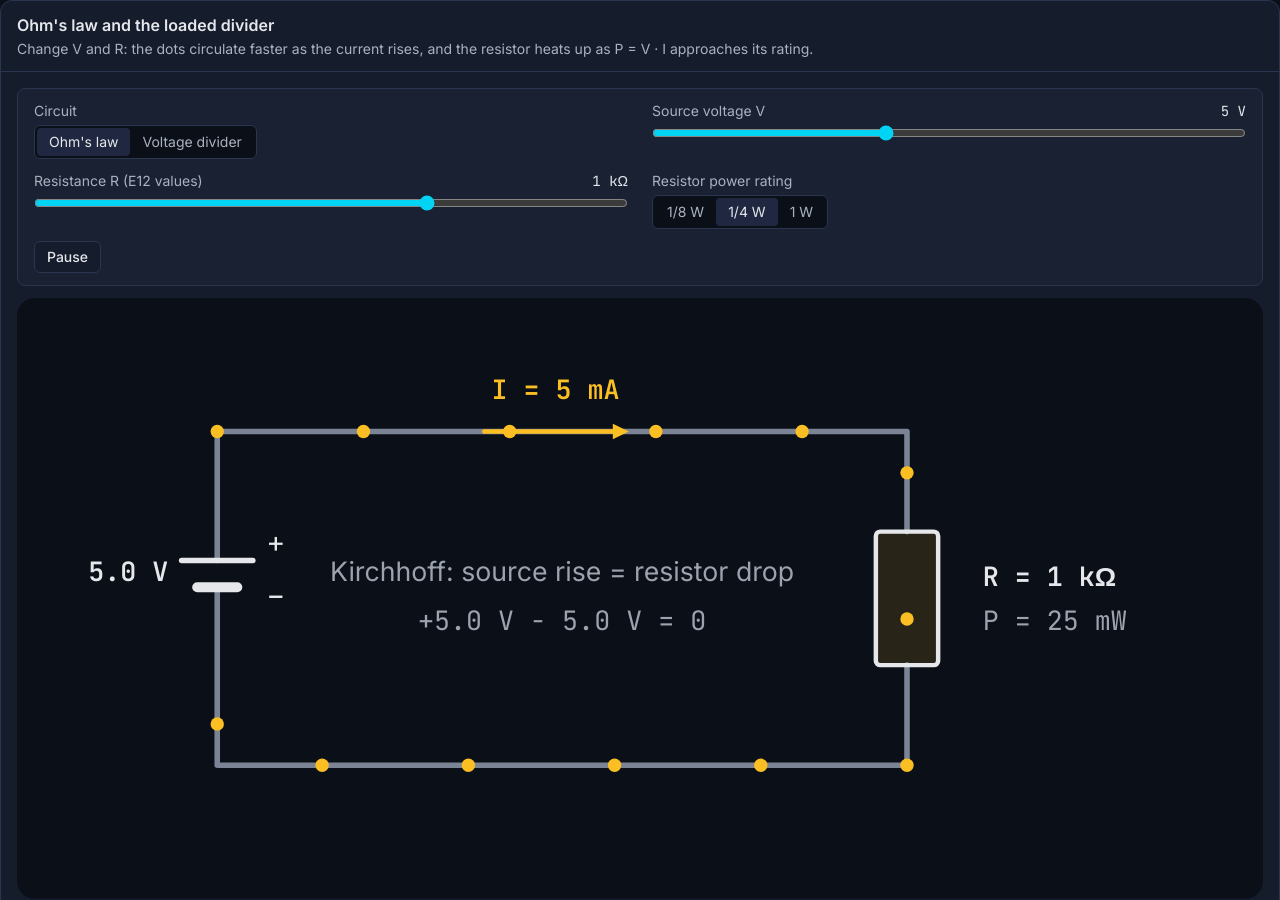
it: OhmsLawCircuit › divider mode: 27 k / 10 k on 12 V gives 3.243 V, and a 100 k load pulls it to 3.023 V
Click the radio button labelled "Voltage divider" at (192, 142), box left=130, top=128, right=254, bottom=156
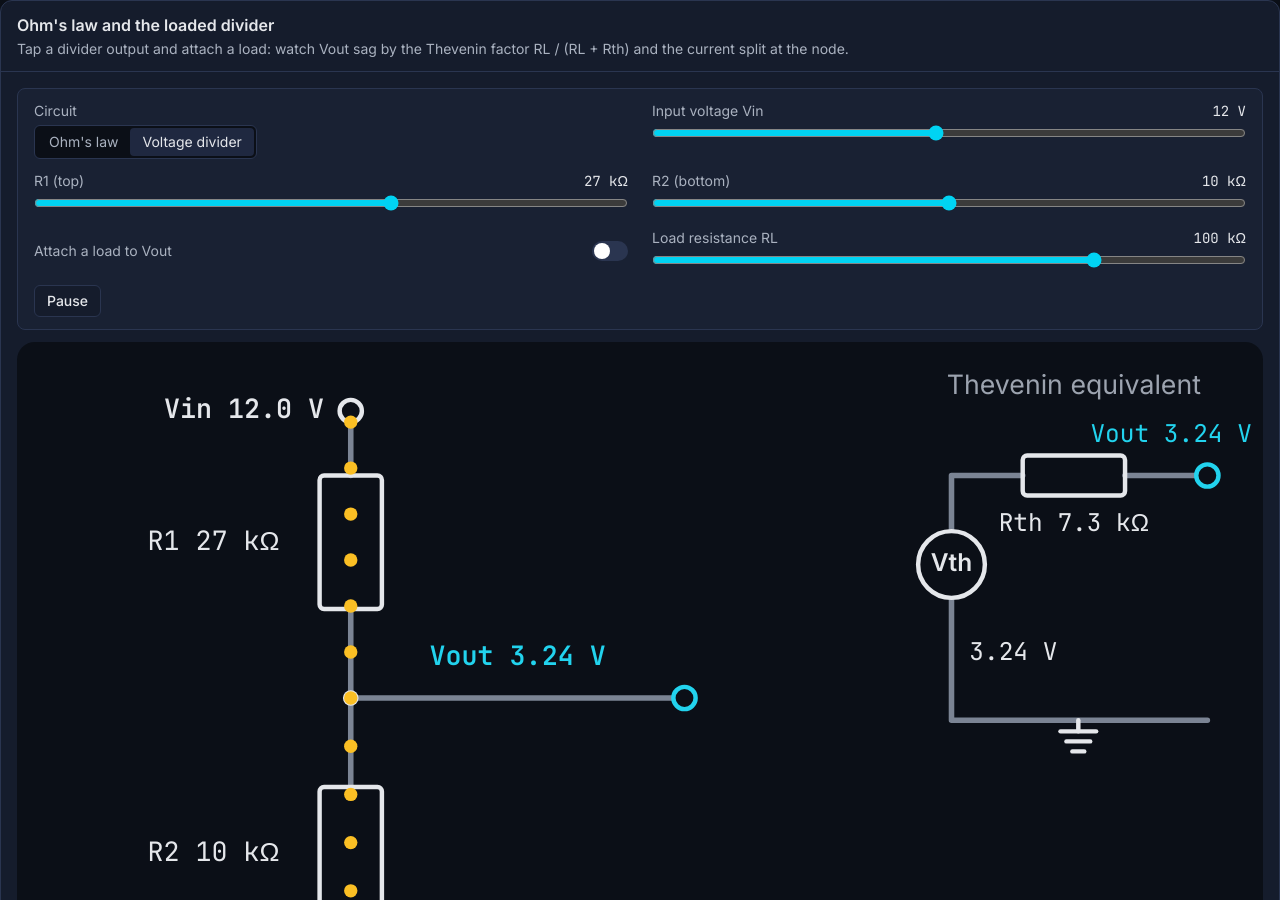
Click the switch at (103, 250), box left=34, top=228, right=628, bottom=273
(page scrolled)
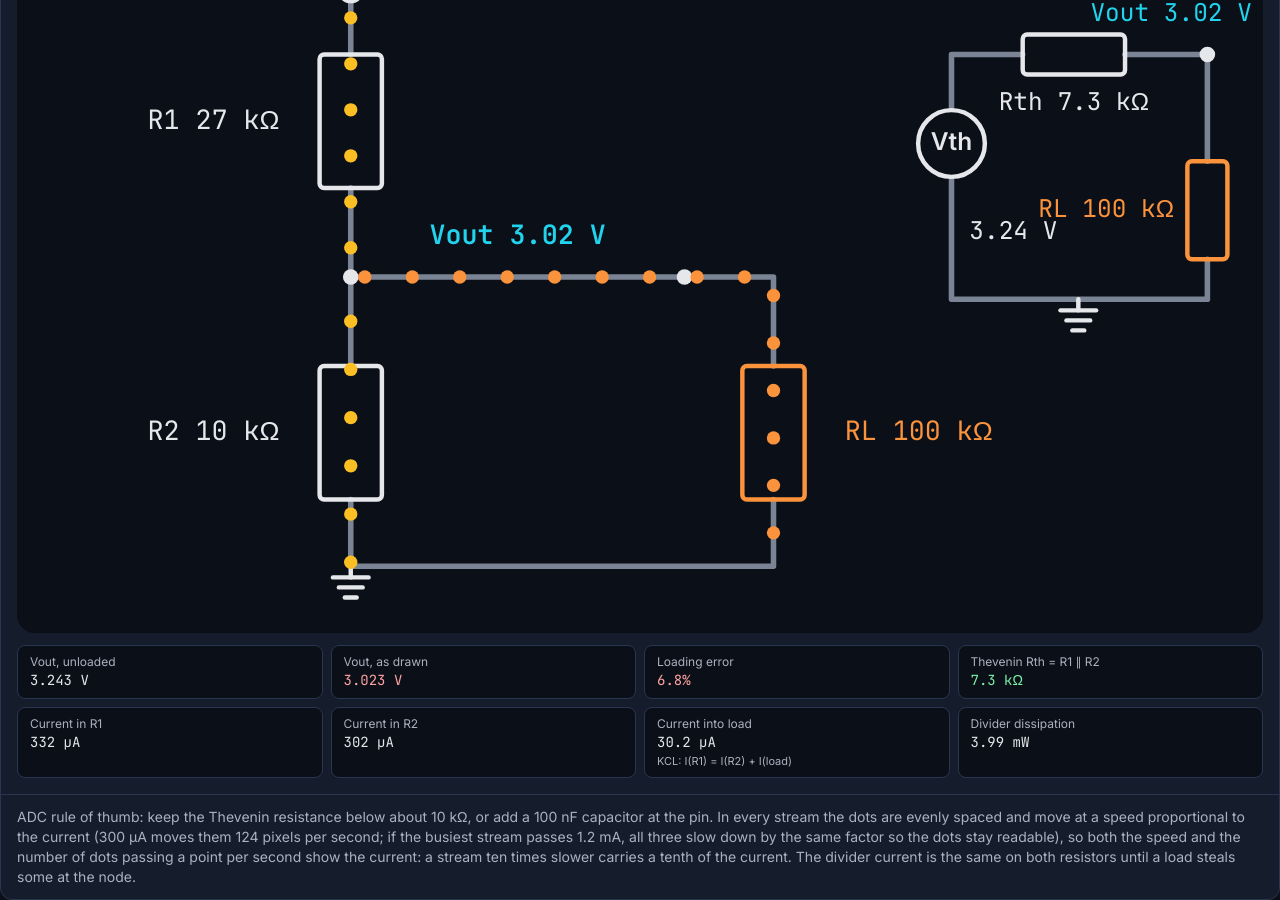
Expected: the text "3.023 V" is shown, left=344, top=671, right=402, bottom=689
